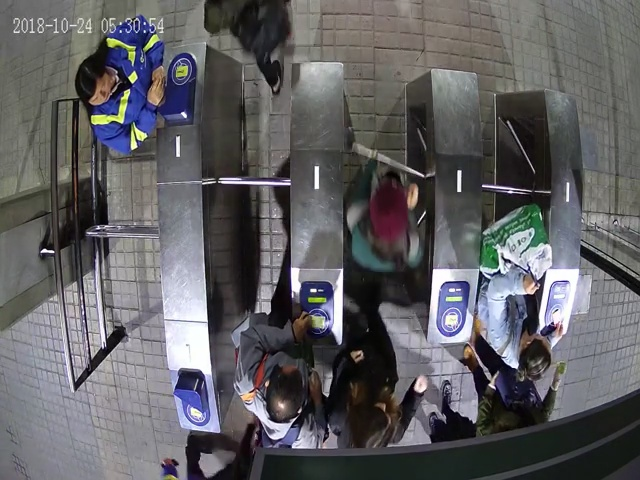Chaleco_azul: (75, 15, 167, 155)
